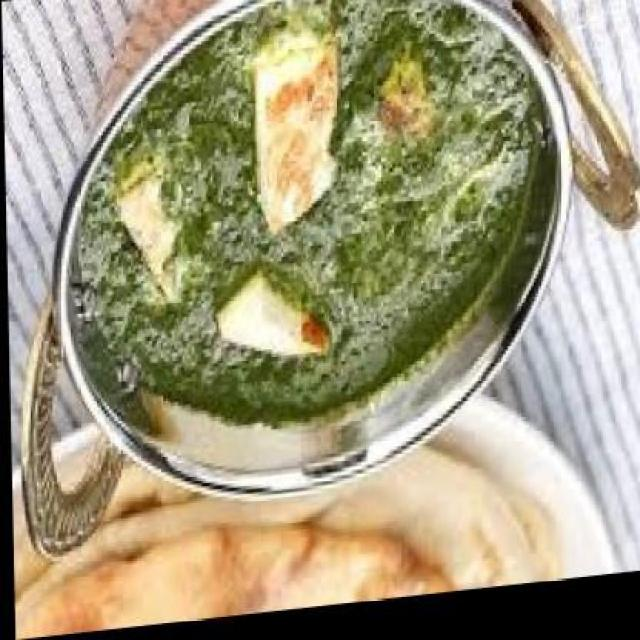palak_paneer: (69, 0, 545, 449)
